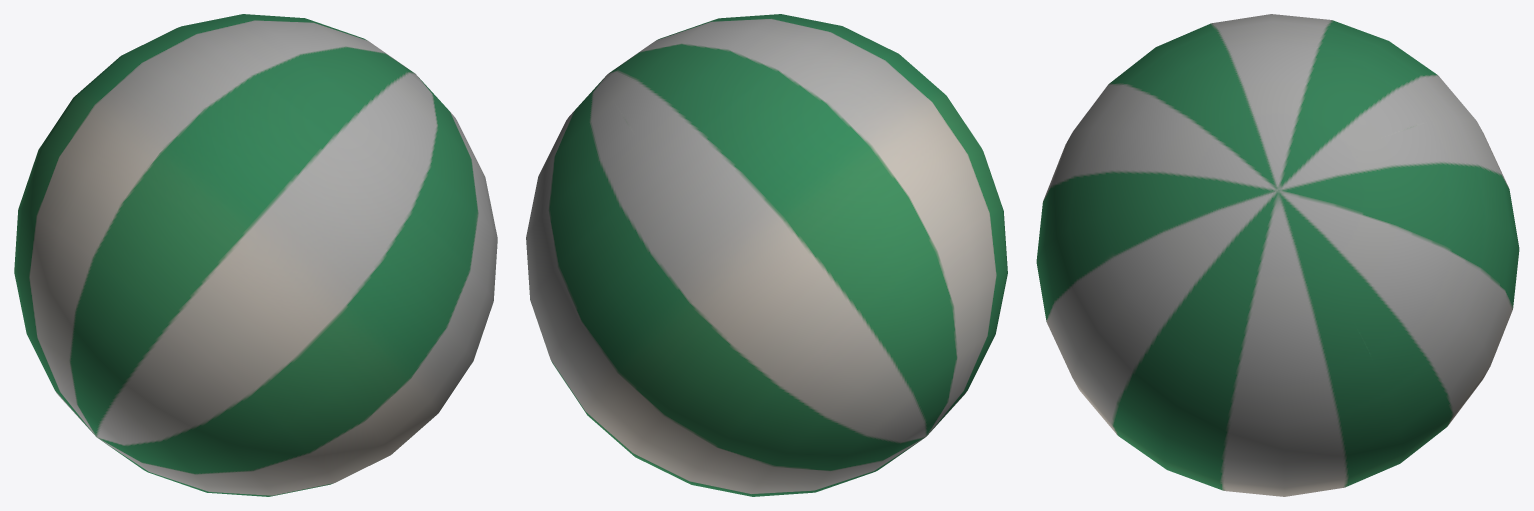
File: BallToy.fbx
3 views of the same model, side by side, from view 1: azimuth 30°, elevation 25°; view 2: azimuth 150°, elevation 25°; view 3: azimuth 270°, elevation 25° (orthographic).
Visible parts, largest first — view 1: BallToy; view 2: BallToy; view 3: BallToy.
Boxes of the visible parts, x1,y1,x2,y2 form: BallToy: (14, 14, 497, 496); BallToy: (526, 14, 1007, 496); BallToy: (1036, 14, 1519, 496).
Bounding box in the file's own units: 25.23 × 25.23 × 25.3.
